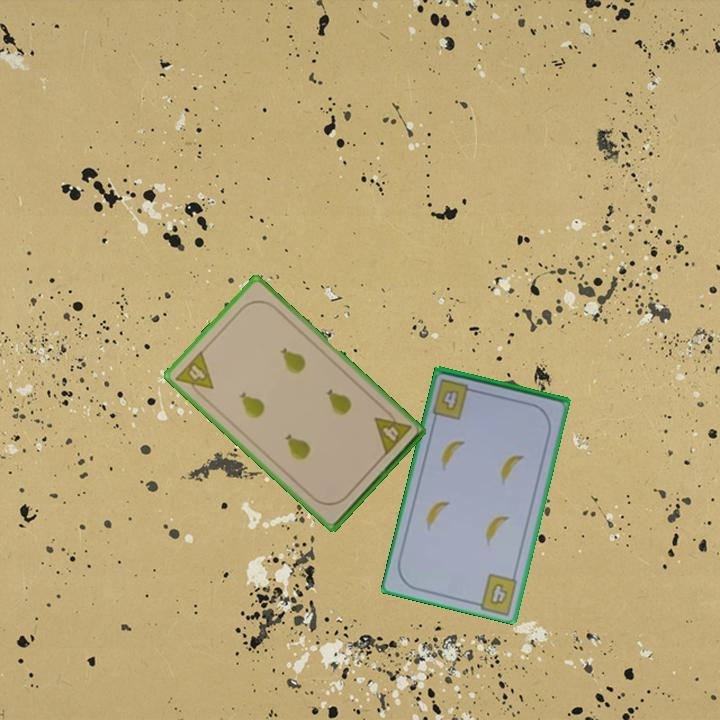4b: (429, 376, 480, 422), (487, 580, 511, 608)
4p: (172, 347, 216, 402), (370, 405, 414, 458)
